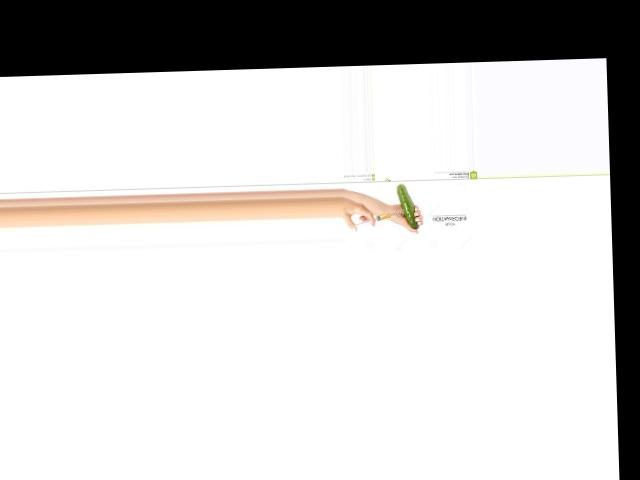cucumber: (396, 183, 418, 229)
